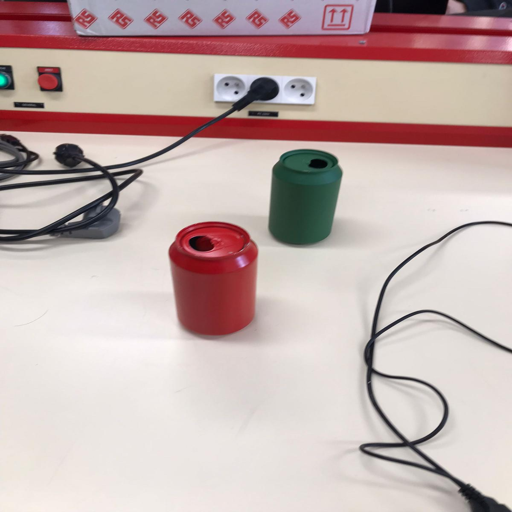Green_Can: (266, 147, 341, 246)
Red_Can: (167, 220, 259, 336)
